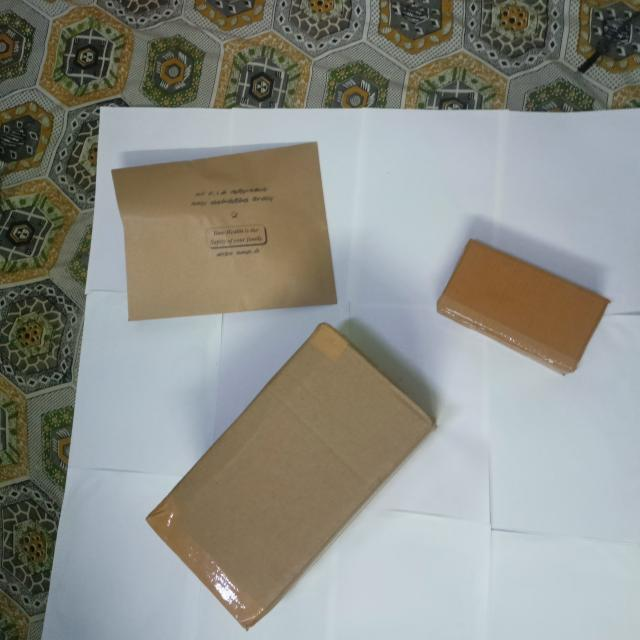box: (146, 325, 437, 633), (112, 144, 340, 321), (435, 239, 611, 379)
